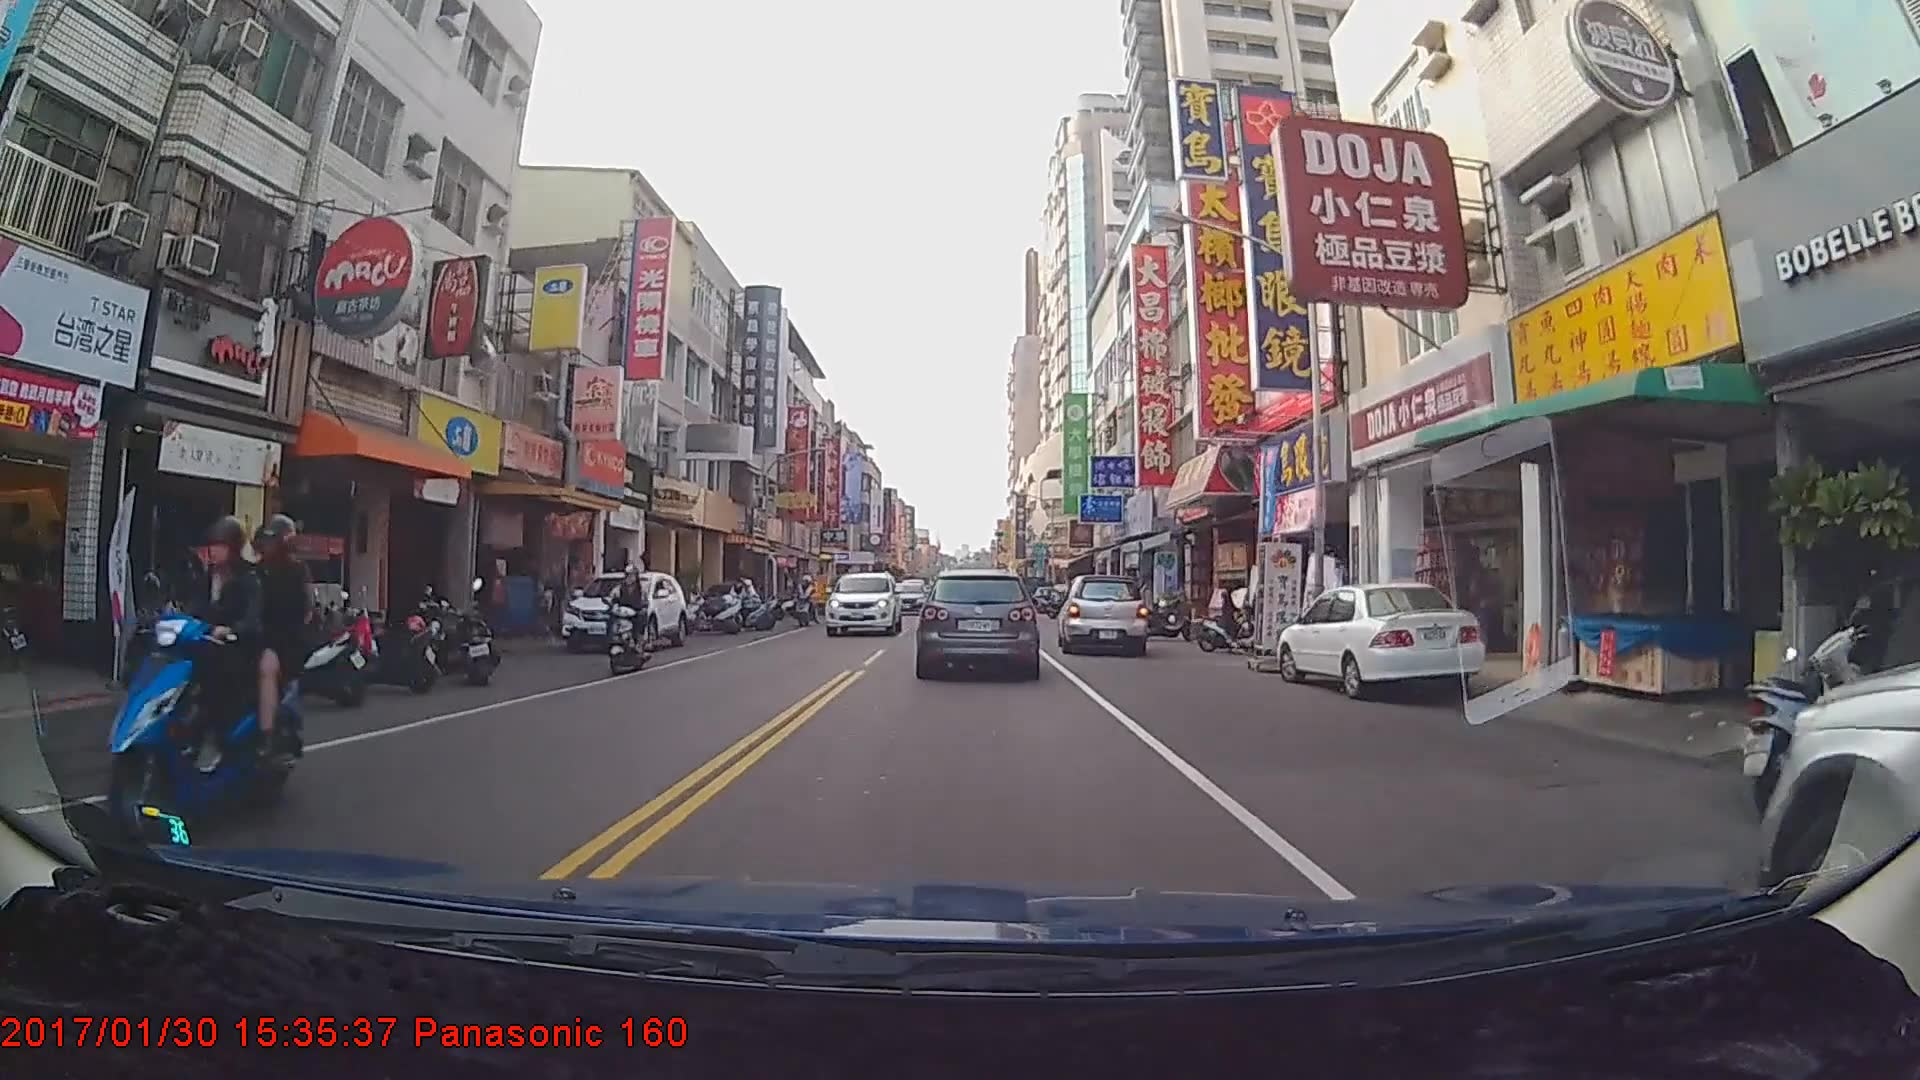rider: (99, 497, 303, 833), (604, 568, 659, 679), (1196, 583, 1273, 658), (791, 570, 818, 631)
vehicle: (1278, 581, 1482, 696), (919, 567, 1037, 676), (558, 571, 689, 654), (1059, 575, 1148, 657), (825, 569, 901, 636), (888, 581, 929, 614)
